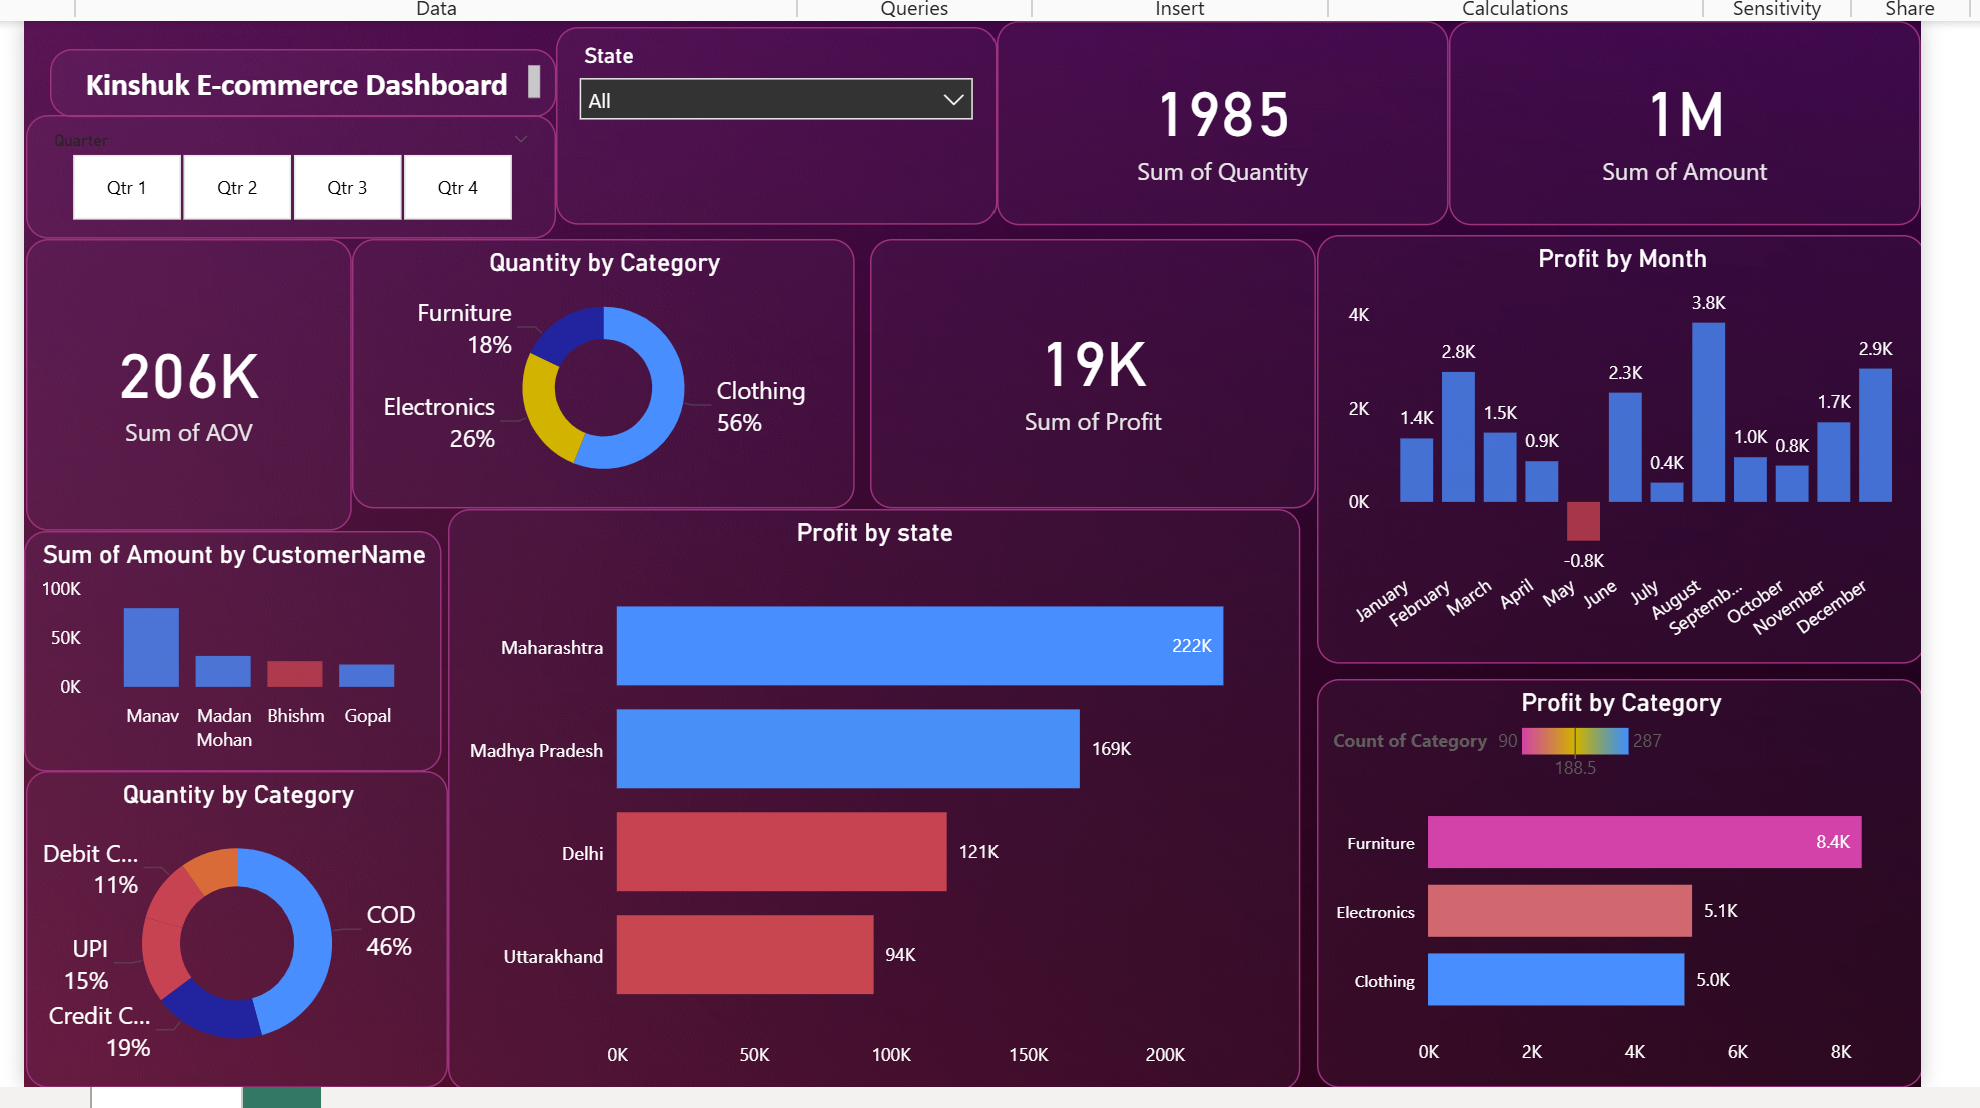

The page's visual inventory and layout, read from the dashboard file:
{"tool":"powerbi","page":{"name":"Page 1","canvas":[1280,720],"ordinal":0},"visuals":[{"type":"textbox","box":[17.6,18.9,341.8,45.9],"z":0},{"type":"donutChart","title":"Quantity by Category","fields":{"Category":["Power BI Assignment Raw Data.Category"],"Y":["Power BI Assignment Raw Data.Quantity"]},"box":[221.4,147.1,339.7,182],"z":1000},{"type":"donutChart","title":"Quantity by Category","fields":{"Y":["Power BI Assignment Raw Data.Quantity"],"Category":["Power BI Assignment Raw Data.PaymentMode"]},"box":[1.5,506.5,285.1,213.8],"z":2000},{"type":"card","fields":{"Values":["Power BI Assignment Raw Data.Amount"]},"box":[961.5,0,318.5,138],"z":3000},{"type":"card","fields":{"Values":["Power BI Assignment Raw Data.Quantity"]},"box":[656.7,0,304.8,138],"z":4000},{"type":"card","fields":{"Values":["Power BI Assignment Raw Data.AOV"]},"box":[1.5,147.1,219.9,197.2],"z":5000},{"type":"columnChart","fields":{"Category":["Power BI Assignment Raw Data.CustomerName"],"Y":["Power BI Assignment Raw Data.Amount"]},"box":[0,344.3,282.1,162.3],"z":6000},{"type":"slicer","fields":{"Values":["Power BI Assignment Raw Data.Order Date.Variation.Date Hierarchy.Quarter"]},"box":[1.5,63.7,357.9,83.4],"z":7000},{"type":"slicer","fields":{"Values":["Power BI Assignment Raw Data.State"]},"box":[359.4,4.5,297.3,133.5],"z":8000},{"type":"card","fields":{"Values":["Power BI Assignment Raw Data.Profit"]},"box":[571.8,147.1,300.3,182],"z":9000},{"type":"columnChart","title":"Profit by Month","fields":{"Category":["Power BI Assignment Raw Data.Order Date.Variation.Date Hierarchy.Month"],"Y":["Power BI Assignment Raw Data.Profit"]},"box":[872,144.1,411,289.7],"z":10000},{"type":"barChart","title":"Profit by Category","fields":{"Category":["Power BI Assignment Raw Data.Category"],"Y":["Power BI Assignment Raw Data.Profit"]},"box":[872,444.4,409.5,276],"z":11000},{"type":"barChart","title":"Profit by state","fields":{"Category":["Power BI Assignment Raw Data.State"],"Y":["Power BI Assignment Raw Data.Amount"]},"box":[286.6,329.1,574.8,392.8],"z":12000}]}

Visuals, with their boxes on the page's 1280x720 design canvas (x1, y1, x2, y2). These are canvas units, not pixel positions in the 1980x1108 screenshot, which may show the page scaled, cropped or inside an application window:
textbox: box=[18, 19, 359, 65]
"Quantity by Category" donutChart: box=[221, 147, 561, 329]
"Quantity by Category" donutChart: box=[2, 506, 287, 720]
card - Power BI Assignment Raw Data.Amount: box=[962, 0, 1280, 138]
card - Power BI Assignment Raw Data.Quantity: box=[657, 0, 962, 138]
card - Power BI Assignment Raw Data.AOV: box=[2, 147, 221, 344]
columnChart - Power BI Assignment Raw Data.CustomerName x Power BI Assignment Raw Data.Amount: box=[0, 344, 282, 507]
slicer - Power BI Assignment Raw Data.Order Date.Variation.Date Hierarchy.Quarter: box=[2, 64, 359, 147]
slicer - Power BI Assignment Raw Data.State: box=[359, 4, 657, 138]
card - Power BI Assignment Raw Data.Profit: box=[572, 147, 872, 329]
"Profit by Month" columnChart: box=[872, 144, 1283, 434]
"Profit by Category" barChart: box=[872, 444, 1282, 720]
"Profit by state" barChart: box=[287, 329, 861, 722]
